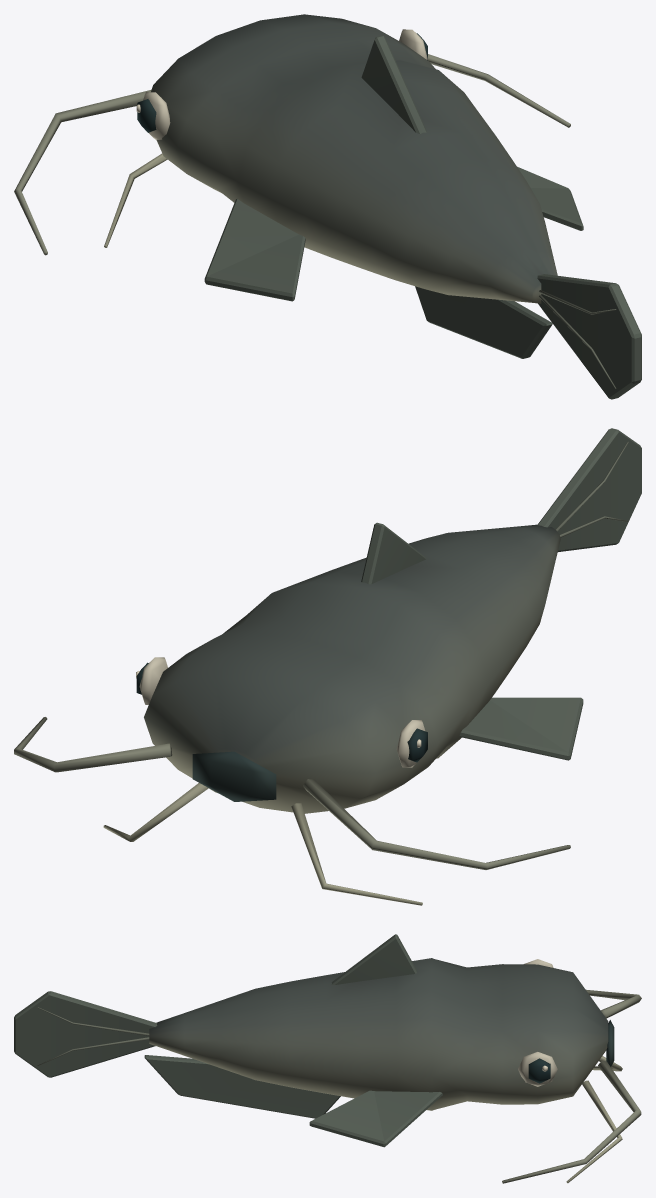
Rendered from fish_catfish.glb.
The picture shows the model from 3 angles, top to bottom: view 1: azimuth 30°, elevation 25°; view 2: azimuth 150°, elevation 25°; view 3: azimuth 270°, elevation 25°; orthographic projection. The views are drawn at different scales.
Size of the model in its own units: 0.3442 by 0.1609 by 0.48.
